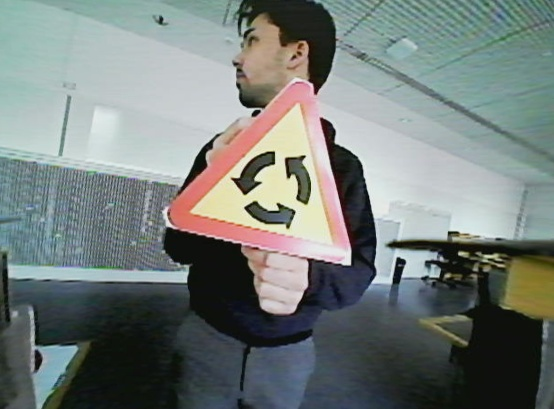roundabout_warning: (156, 64, 366, 269)
